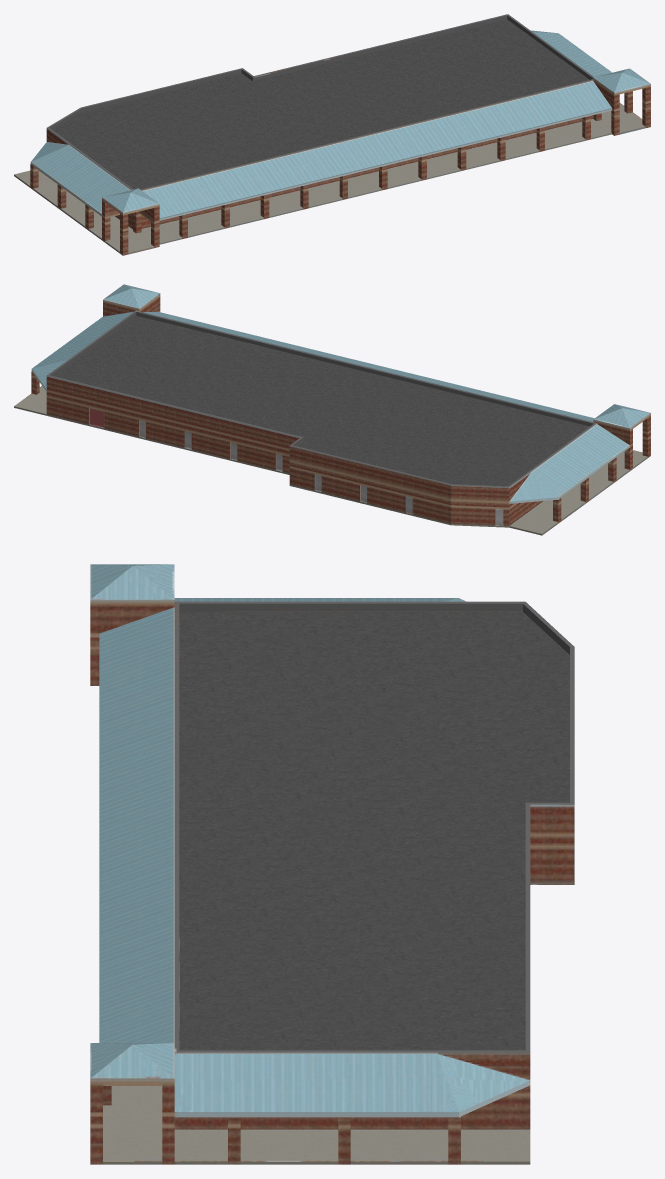
File: IceTales.fbx
3 renders of one model, top to bottom at view 1: azimuth 30°, elevation 25°; view 2: azimuth 150°, elevation 25°; view 3: azimuth 270°, elevation 25°, orthographic. The views are drawn at different scales.
Parts seen in each view (by area): view 1: IceTales_LOD0; view 2: IceTales_LOD0; view 3: IceTales_LOD0.
Boxes of the visible parts, box(x1,y1,x2,y2) form: IceTales_LOD0: box(14, 14, 650, 255); IceTales_LOD0: box(14, 284, 650, 535); IceTales_LOD0: box(90, 564, 574, 1164).
Size of what is drawn, in the model's own units: 6850 by 635 by 2725.
Materials: 1 (1 with a texture image).
